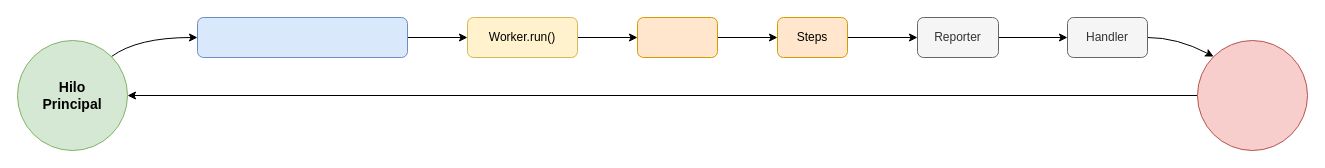
The diagram is 1325 pixels wide and 168 high, and some of its shapes have lost their labels. Each missing label, with the centre of its shape:
"Pipeline" belongs at point 677,37.
"Signal Qt" belongs at point 1252,95.
"Worker QThread - hilo secundario" belongs at point 302,37.
